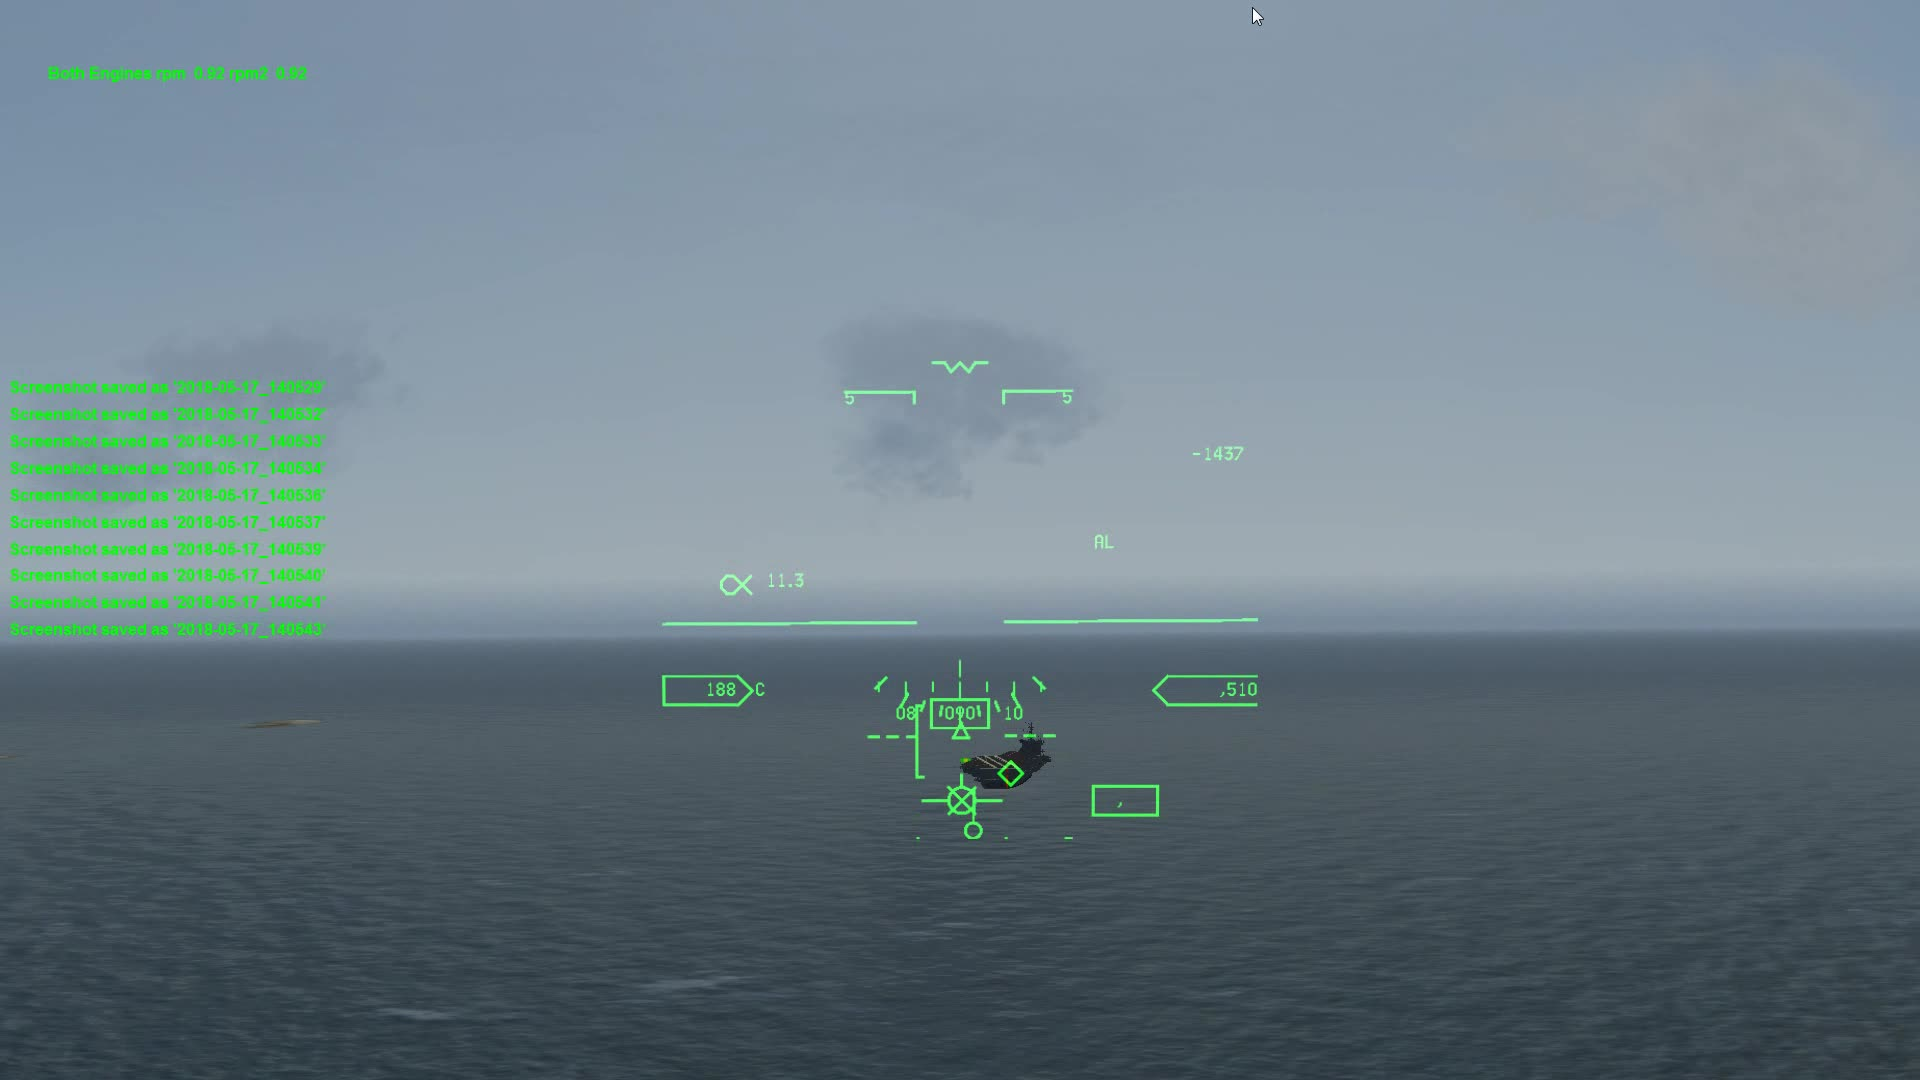speed vector: (920, 774, 1007, 818)
